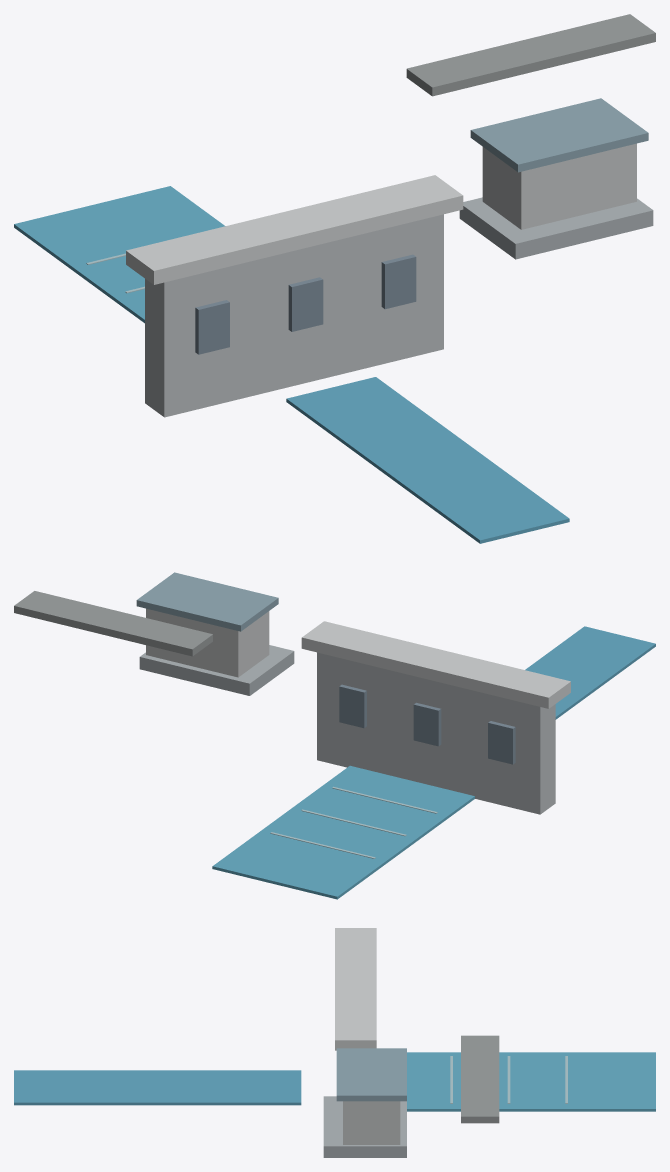
The model's file is estructura.glb.
3 views of the same model, one above another, from view 1: azimuth 30°, elevation 25°; view 2: azimuth 150°, elevation 25°; view 3: azimuth 270°, elevation 25° (orthographic). The views are drawn at different scales.
Visible parts, largest first — view 1: Presa, Rio, Coronamiento, Embalse, Casa_equipos, Camino, Cubierta, Plataforma, Desague_0, Desague_25, Desague_-25; view 2: Presa, Embalse, Coronamiento, Camino, Rio, Cubierta, Casa_equipos, Plataforma, Desague_0, Desague_25, Desague_-25; view 3: Embalse, Rio, Coronamiento, Cubierta, Camino, Casa_equipos, Plataforma.
Boxes of the visible parts, x1,y1,x2,y2 form: Presa: [145, 214, 443, 417]; Rio: [286, 377, 569, 543]; Coronamiento: [126, 175, 463, 284]; Embalse: [14, 186, 225, 323]; Casa_equipos: [482, 143, 636, 229]; Camino: [406, 14, 655, 96]; Cubierta: [470, 98, 648, 172]; Plataforma: [459, 197, 653, 259]; Desague_0: [288, 277, 323, 331]; Desague_25: [381, 254, 416, 309]; Desague_-25: [195, 300, 229, 354]; Presa: [317, 652, 555, 814]; Embalse: [212, 765, 474, 899]; Coronamiento: [301, 621, 570, 708]; Camino: [14, 591, 212, 656]; Rio: [525, 626, 655, 719]; Cubierta: [136, 572, 278, 631]; Casa_equipos: [146, 608, 269, 677]; Plataforma: [139, 645, 294, 695]; Desague_0: [413, 702, 441, 746]; Desague_25: [339, 684, 366, 728]; Desague_-25: [488, 721, 515, 764]; Embalse: [407, 1052, 655, 1111]; Rio: [14, 1070, 301, 1105]; Coronamiento: [335, 928, 376, 1050]; Cubierta: [336, 1048, 406, 1101]; Camino: [461, 1035, 499, 1123]; Casa_equipos: [343, 1101, 400, 1144]; Plataforma: [323, 1096, 406, 1157].
Bounding box in the file's own units: 158 × 47.65 × 201.
